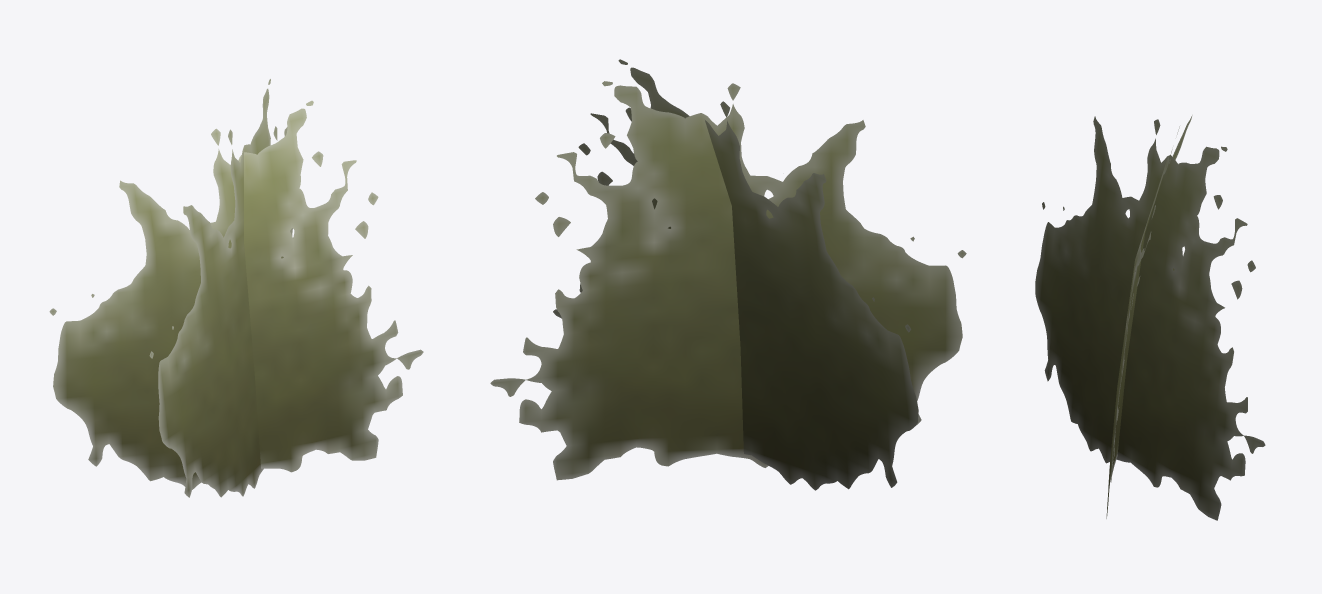
Rendered from bz_grass_02.fbx.
The picture shows the model from 3 angles, left to right: view 1: azimuth 30°, elevation 25°; view 2: azimuth 150°, elevation 25°; view 3: azimuth 270°, elevation 25°; orthographic projection. The views are drawn at different scales.
Parts seen in each view (by area): view 1: bz_grass_02; view 2: bz_grass_02; view 3: bz_grass_02.
Boxes of the visible parts, bbox=[...] form: bz_grass_02: bbox=[49, 79, 423, 497]; bz_grass_02: bbox=[490, 59, 966, 490]; bz_grass_02: bbox=[1035, 115, 1265, 520].
Bounding box in the file's own units: 1.63 × 1.64 × 1.1.
